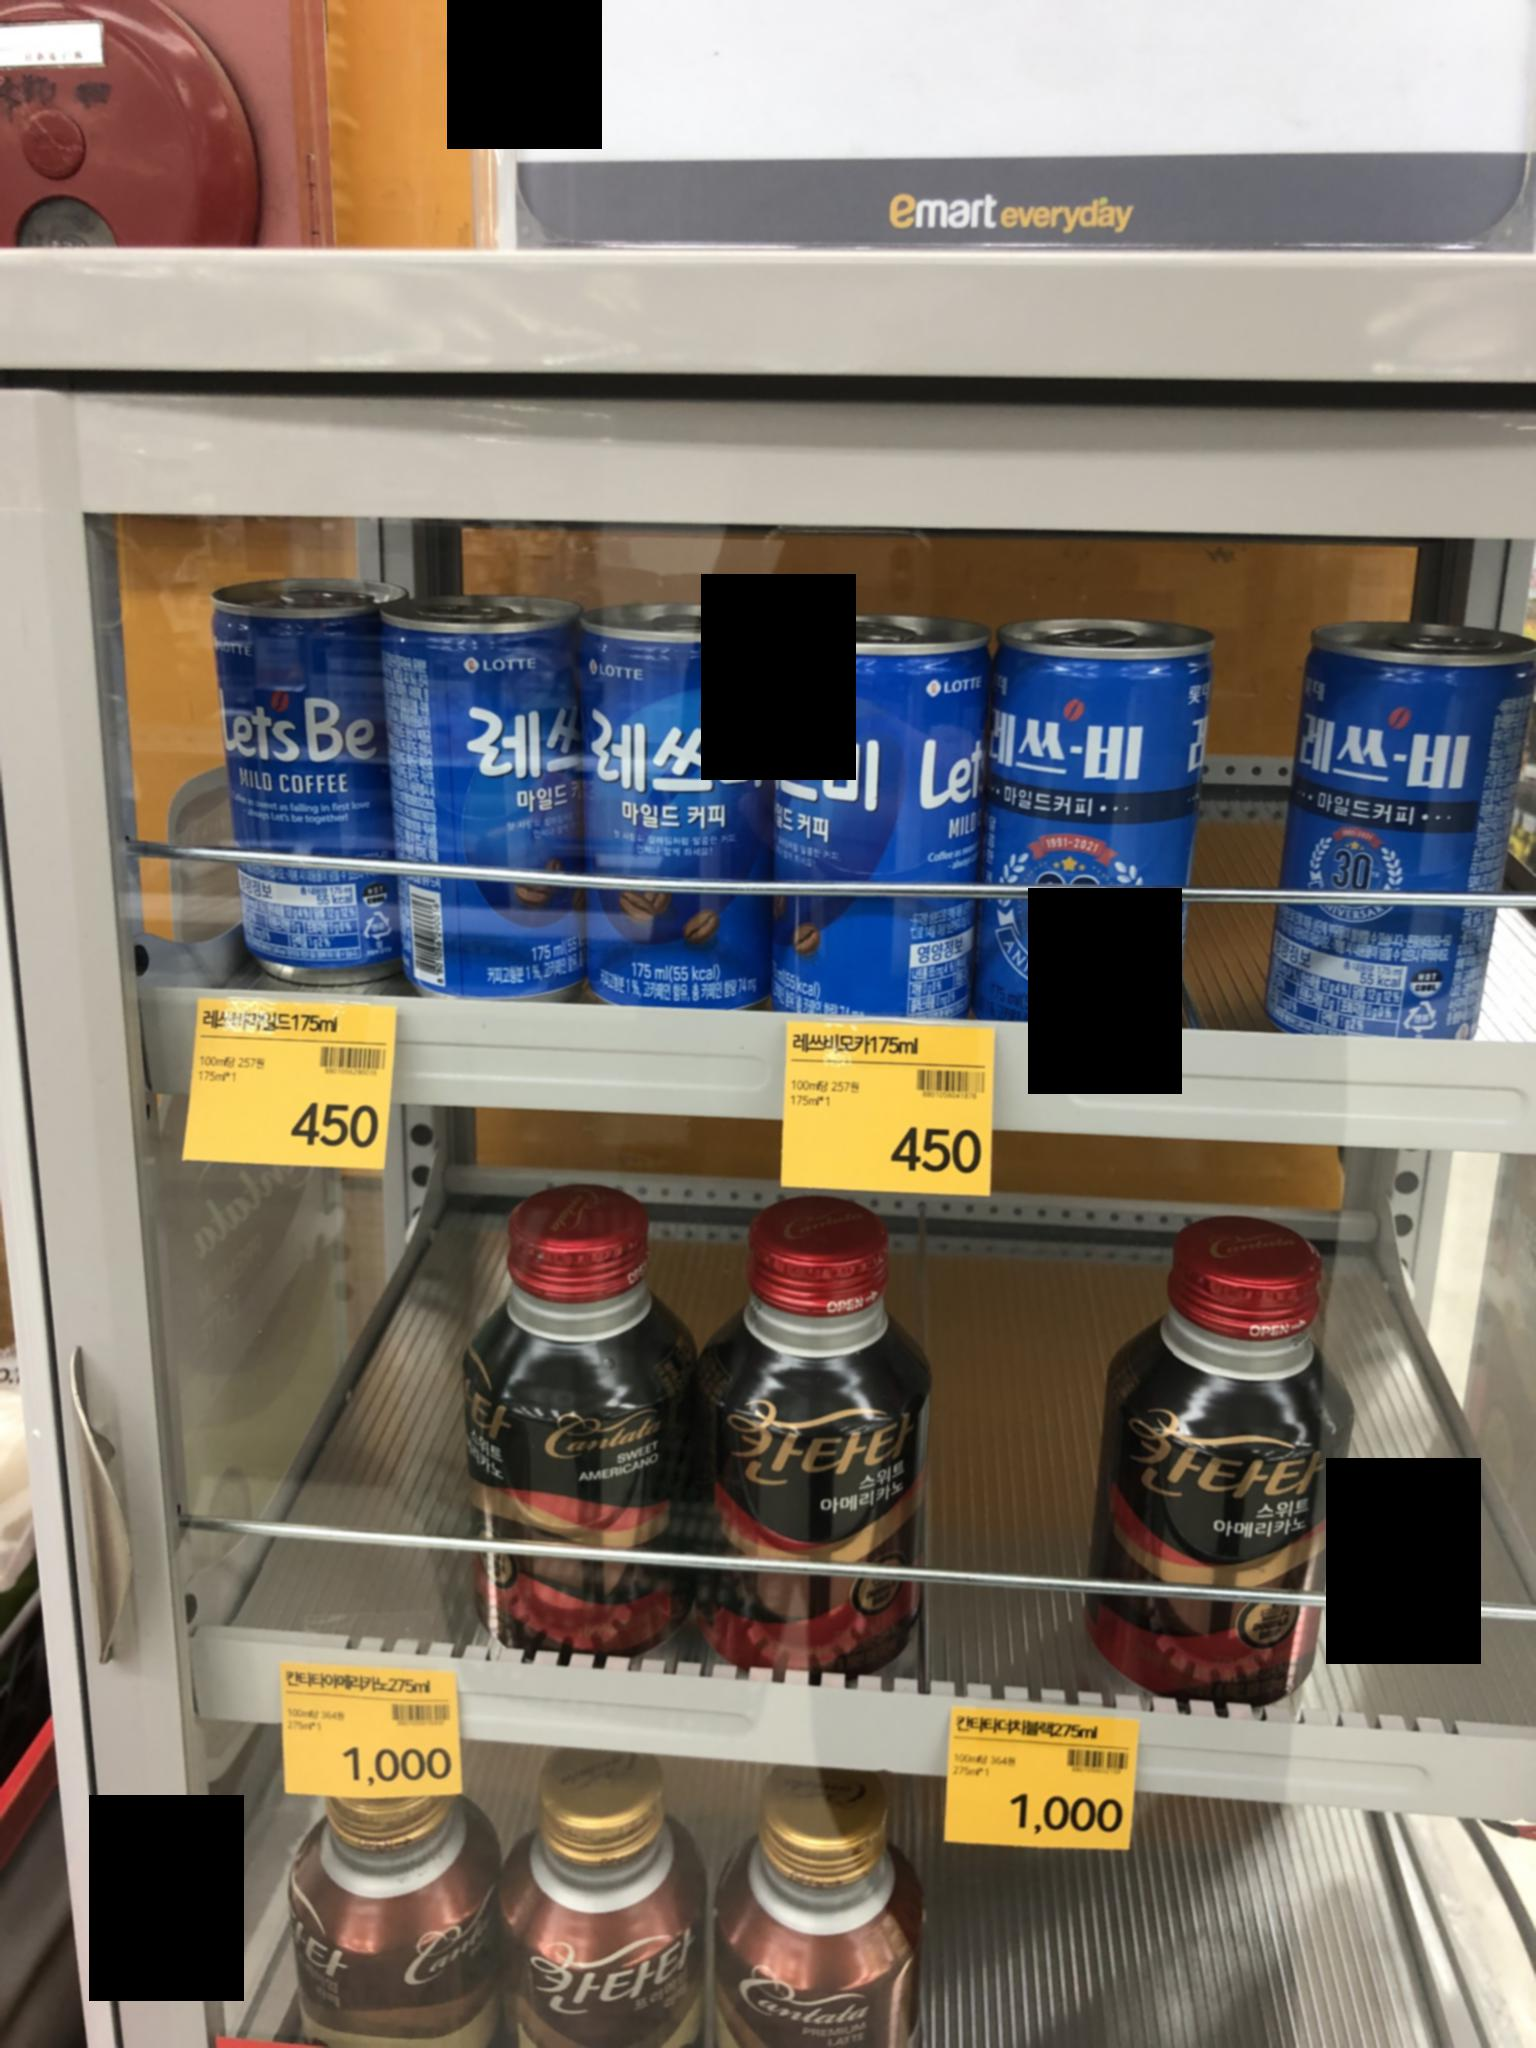letsbe: (1276, 593, 1507, 1047), (987, 605, 1186, 1032), (397, 614, 616, 984), (779, 584, 949, 1056), (602, 590, 783, 1029), (195, 569, 381, 961)
